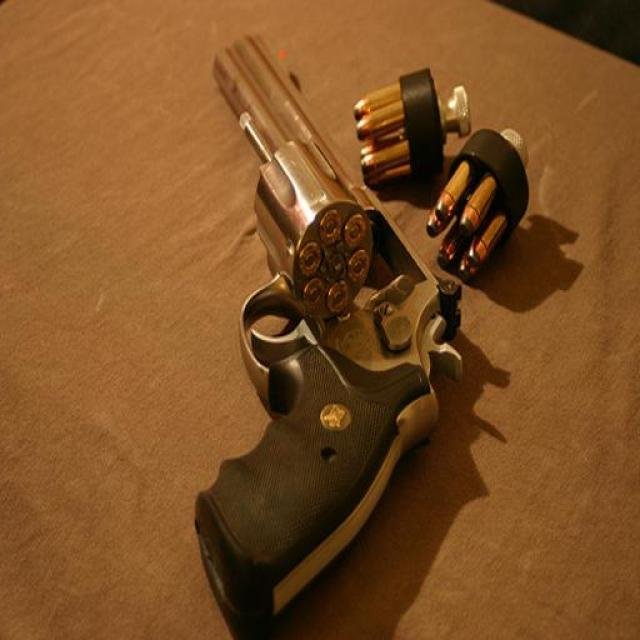pistol: (187, 30, 465, 624)
